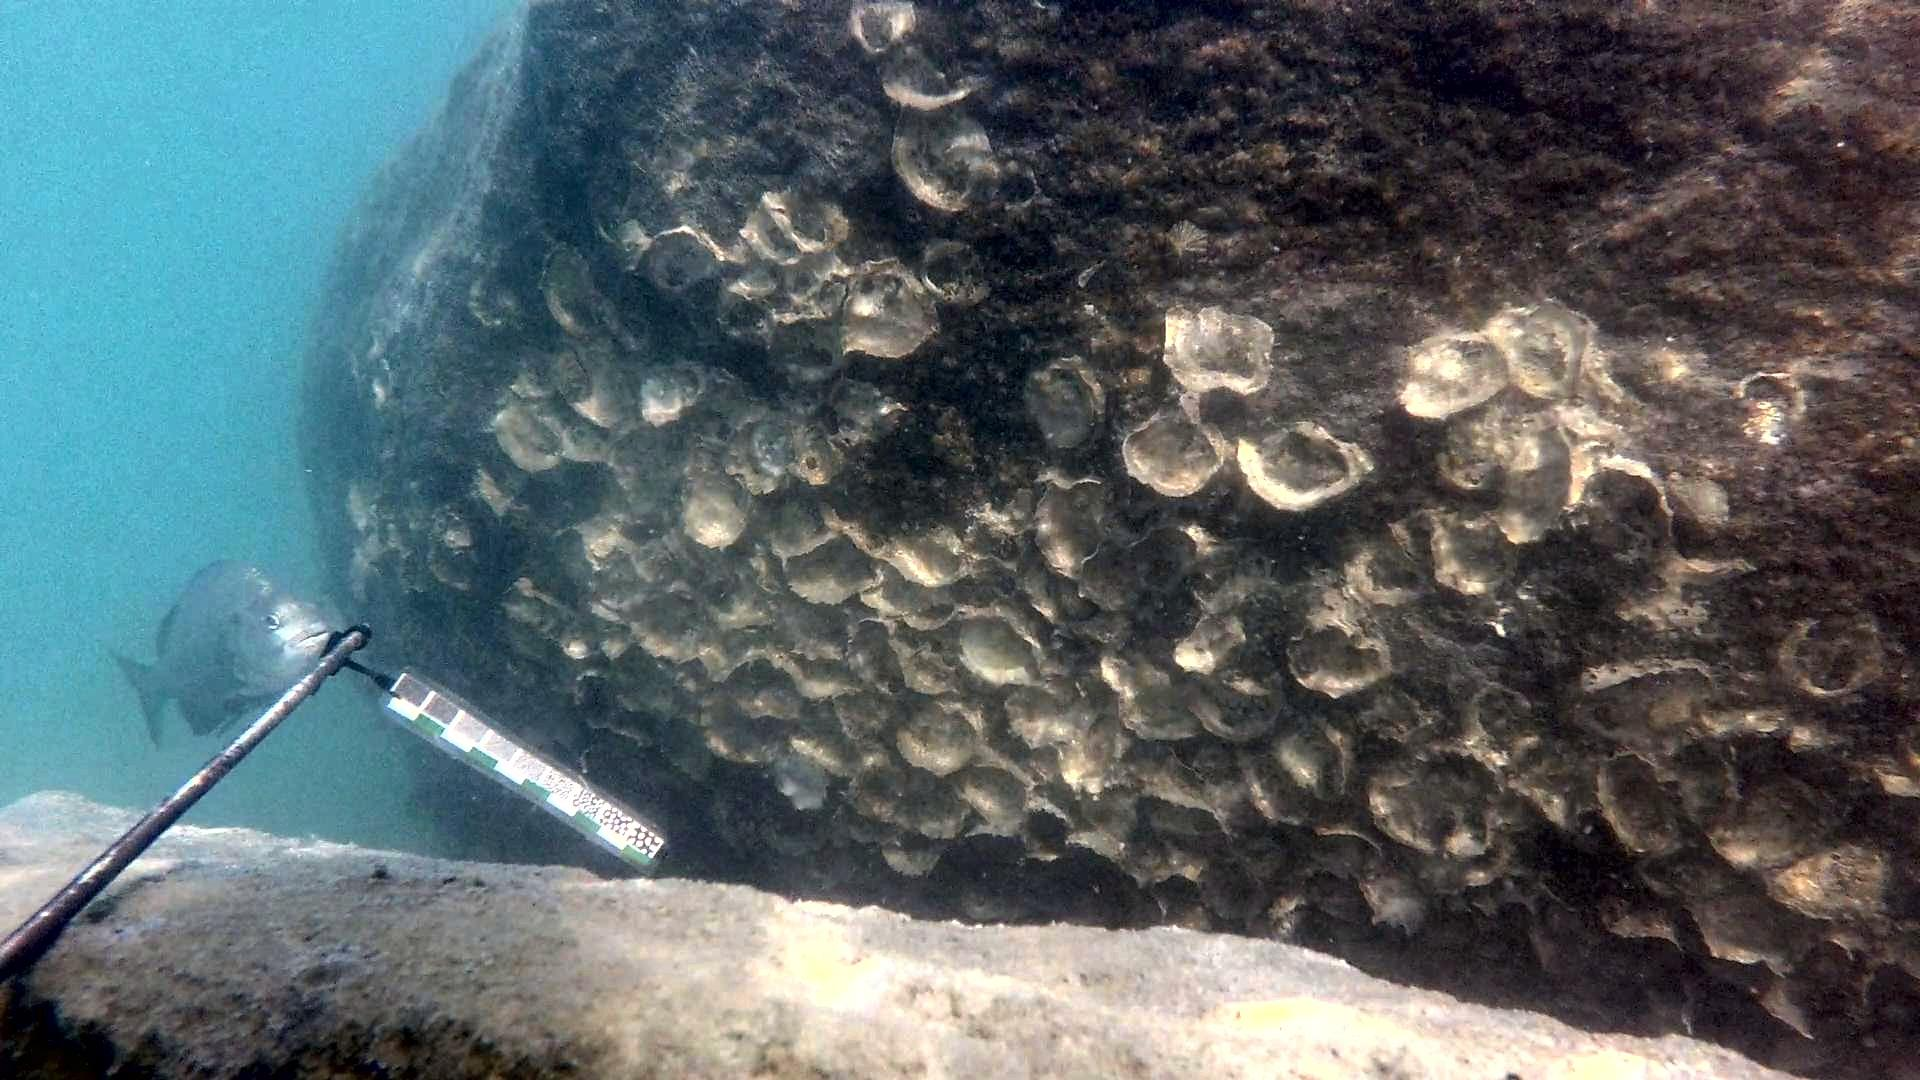acanthopagrus palmaris: (102, 550, 339, 750)
